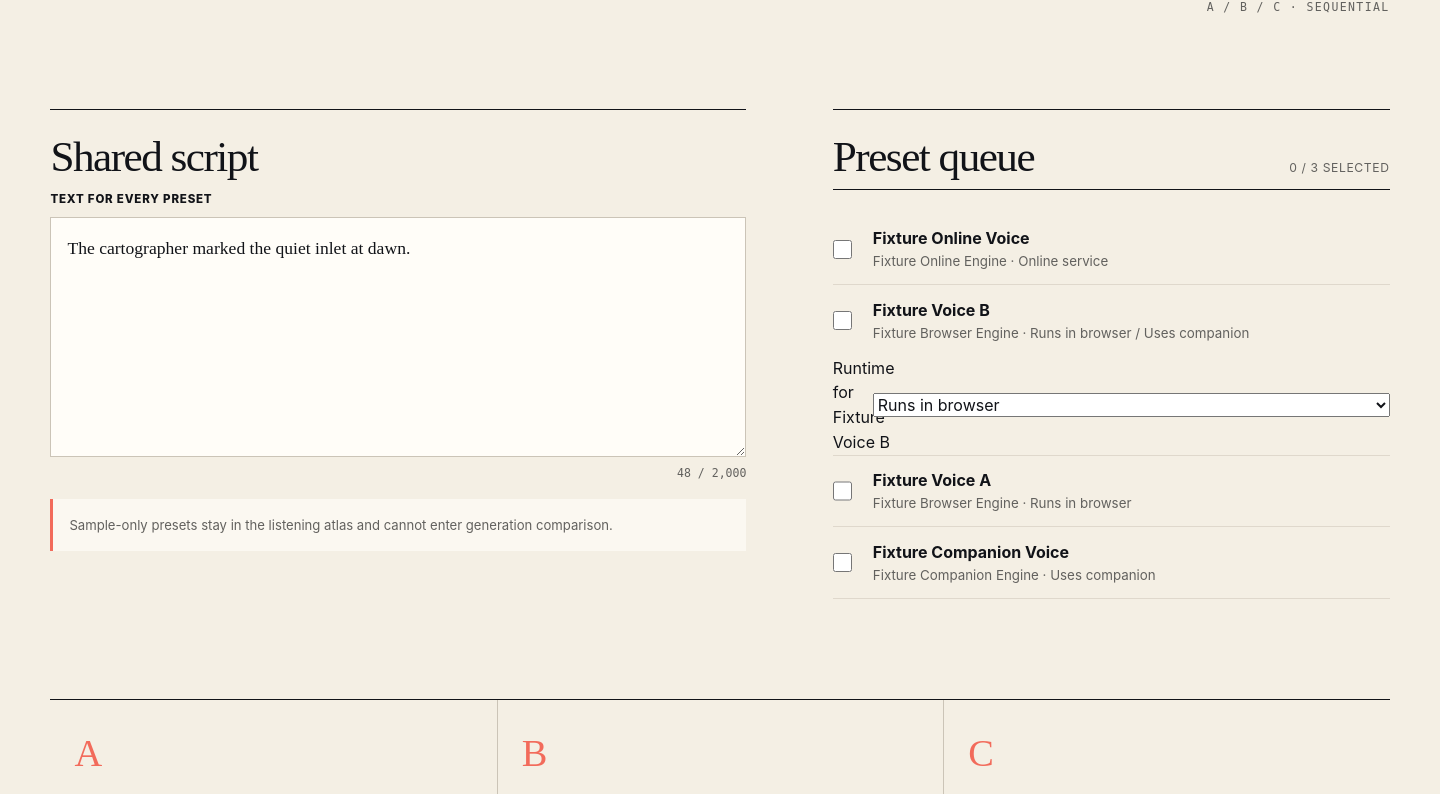
it: comparison runtime choices › runs a multi-mode preset with the explicitly selected mode and capability defaults
(page scrolled)
Select "Uses companion" in the dropdown labelled "Runtime for Fixture Voice B" at (1131, 405), box [873, 393, 1390, 417]
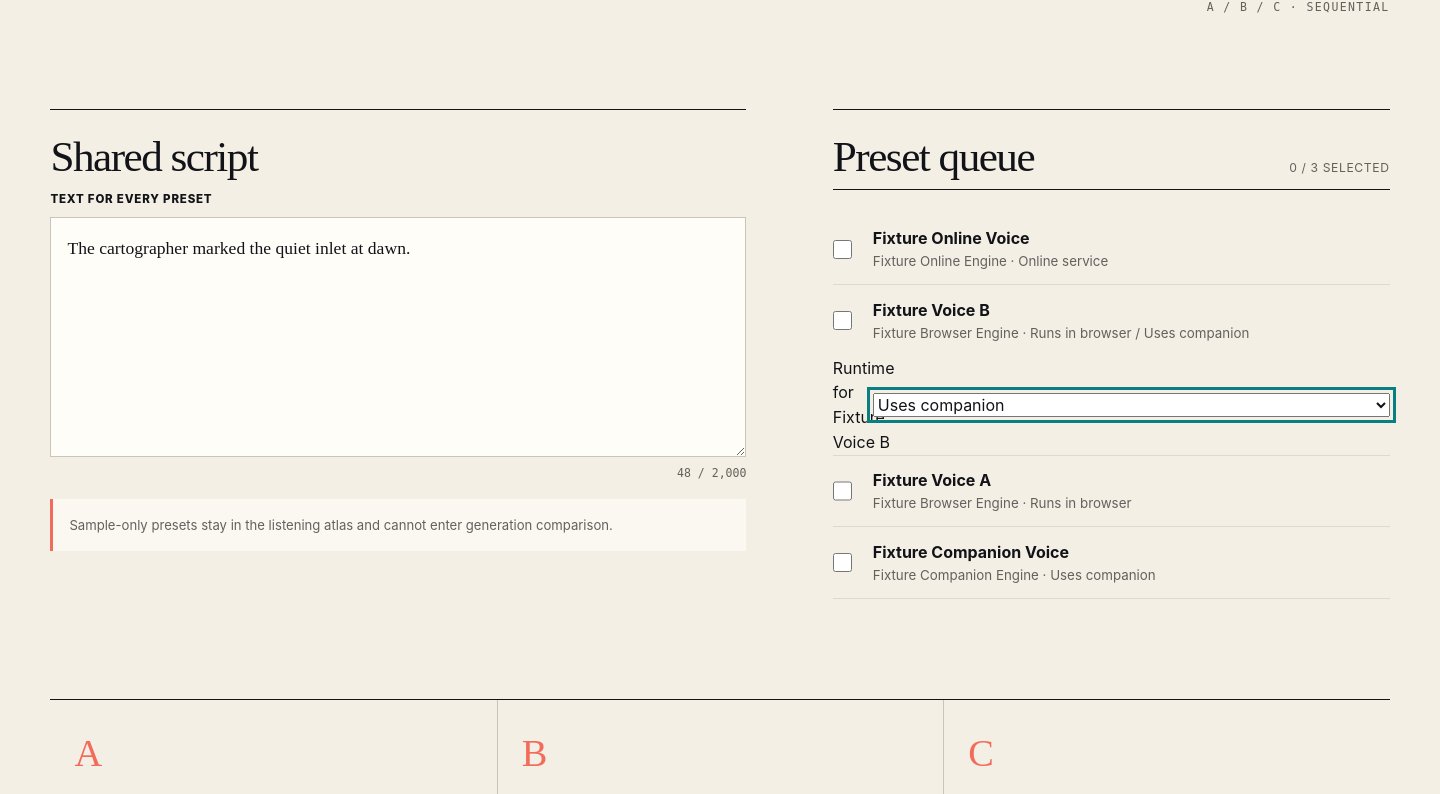
Click the checkbox named "Compare Fixture Voice B" at (842, 320), box [833, 311, 852, 330]
(page scrolled)
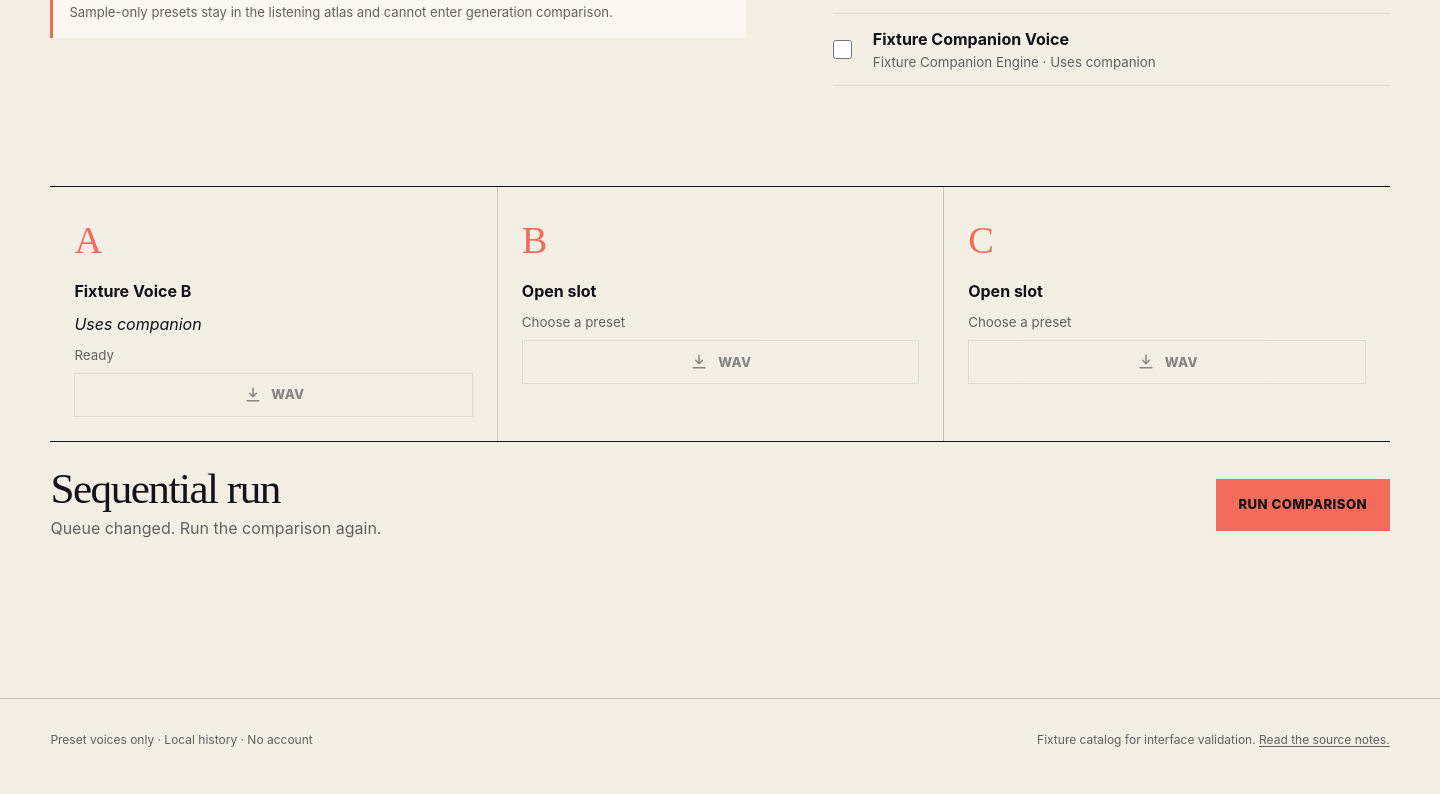
Click the button "Run comparison" at (1303, 505), box [1216, 479, 1390, 531]
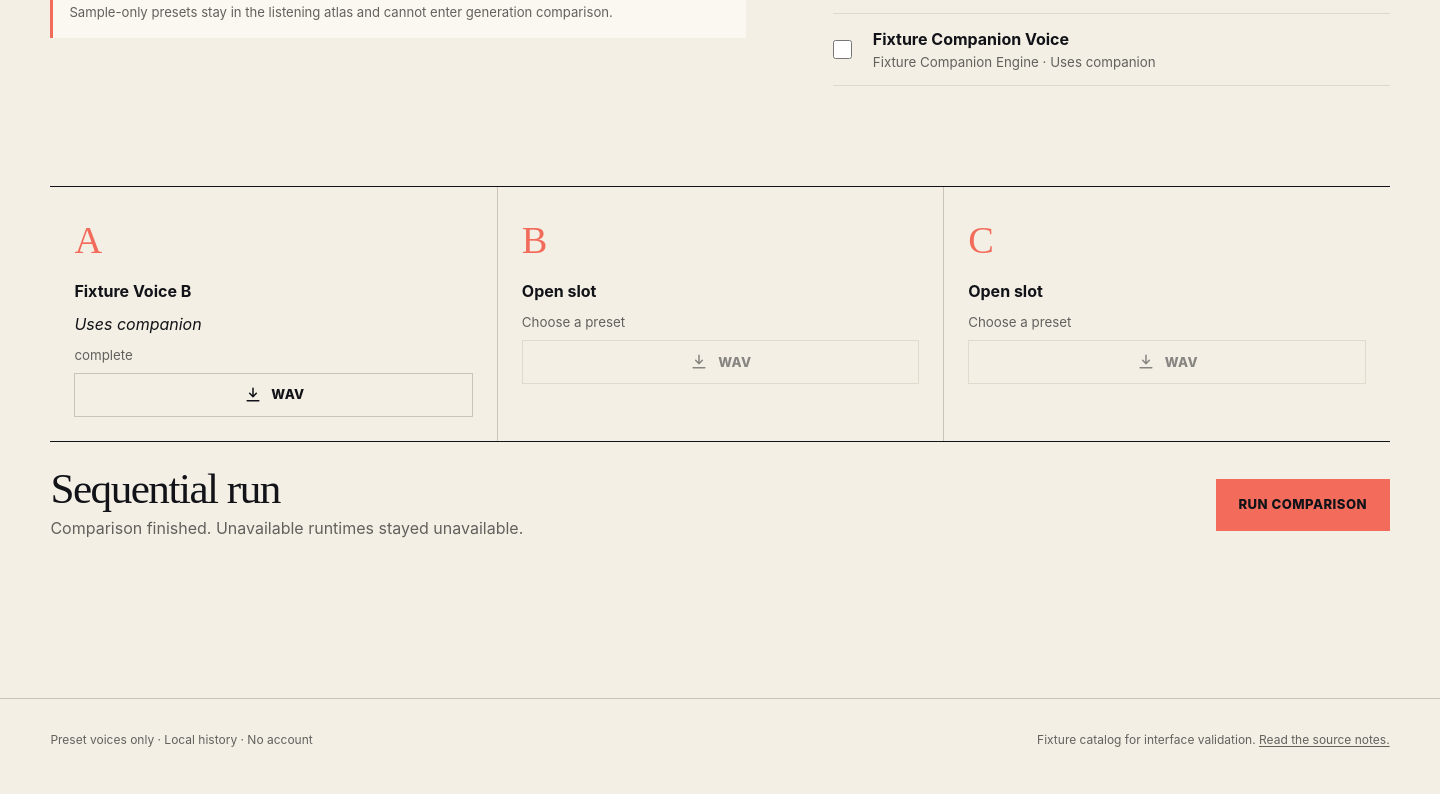
expect the text "Uses companion" is shown: met, box [74, 314, 202, 334]
expect the text "Comparison finished. Unavailable runtimes stayed unavailable." is shown: met, box [50, 516, 523, 540]
